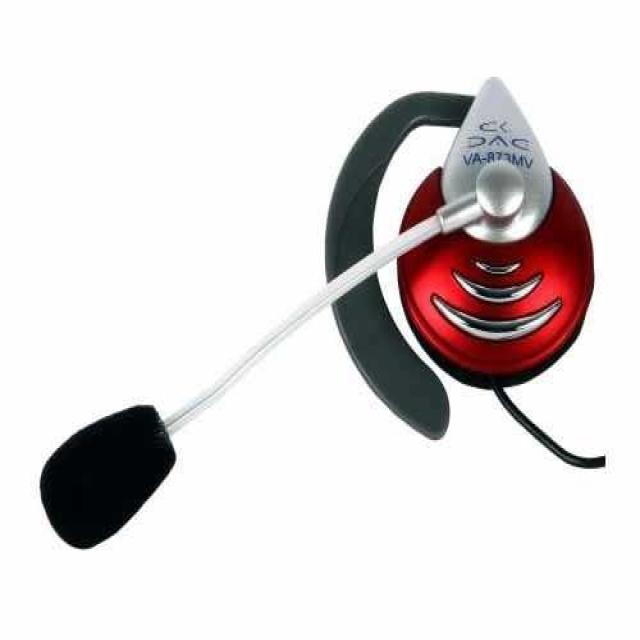microphone: (41, 406, 175, 549)
